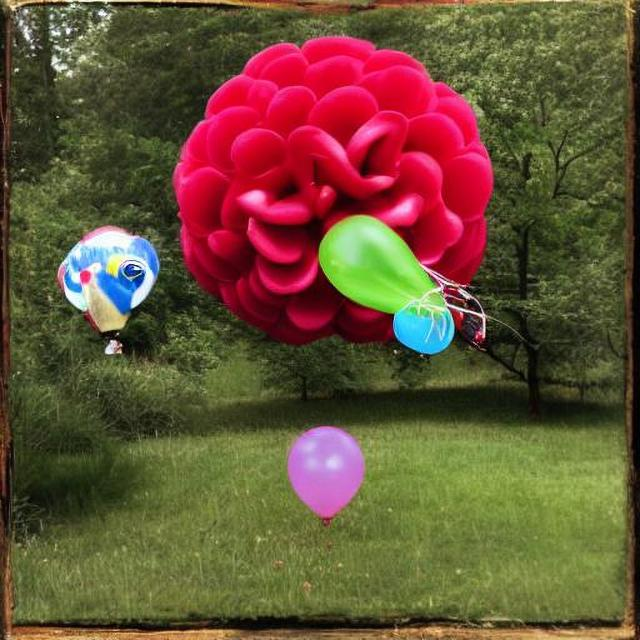balloon: (312, 213, 475, 361), (55, 221, 160, 344), (280, 419, 368, 533)
floating object: (156, 34, 523, 346)
